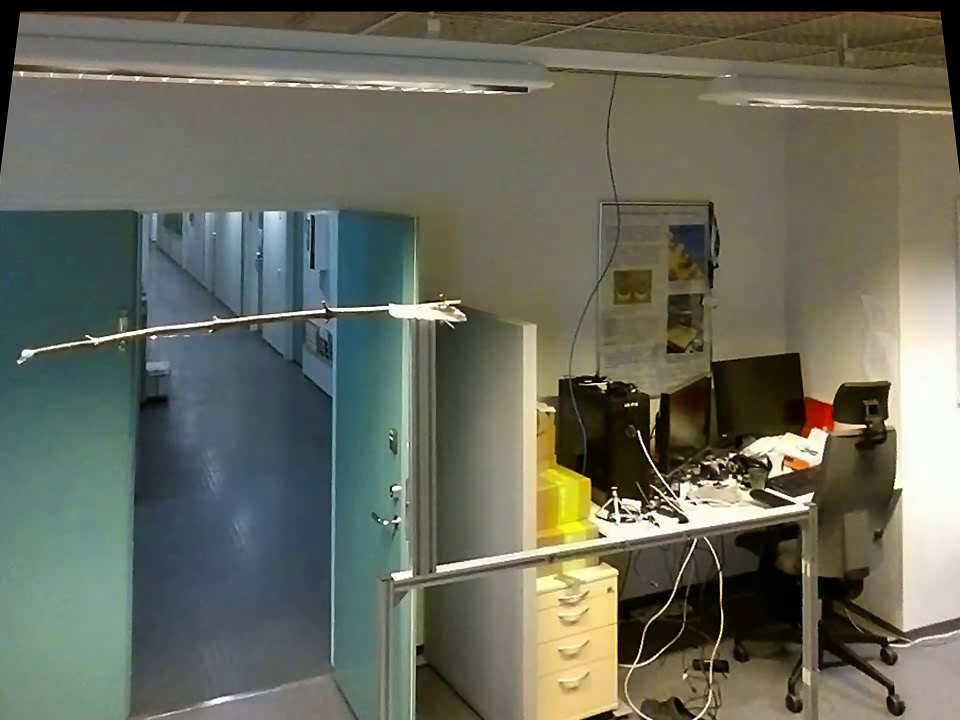aluminum_frame: (394, 496, 817, 598), (396, 313, 446, 577), (794, 497, 821, 714), (368, 572, 399, 718)
branch: (43, 294, 385, 362)
